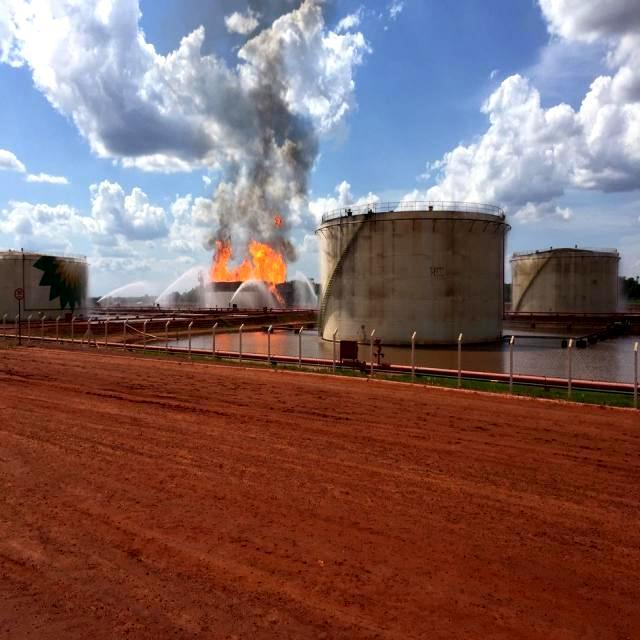Fire: (202, 242, 296, 298)
Smoke: (193, 51, 319, 246)
